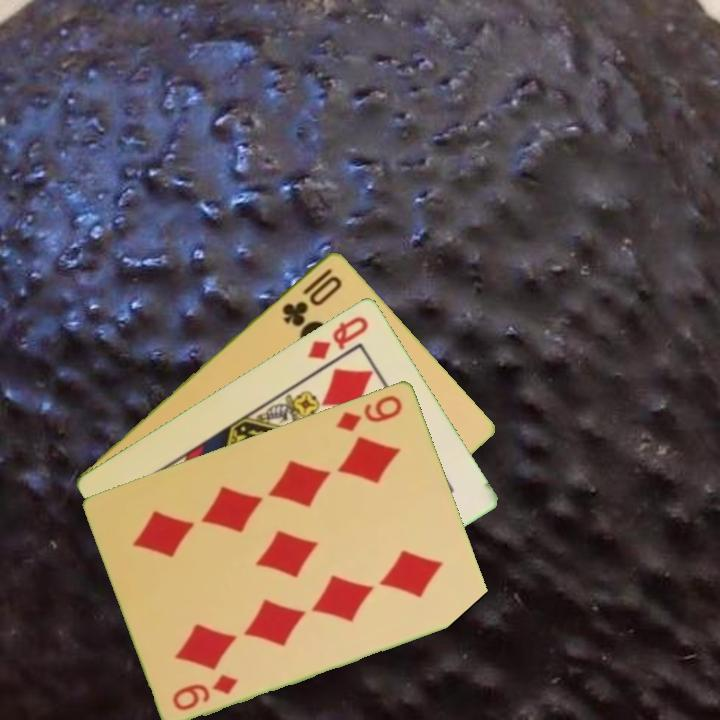10c: (278, 263, 345, 329)
9d: (332, 391, 406, 434), (169, 670, 242, 713)
Qd: (303, 311, 372, 362)
